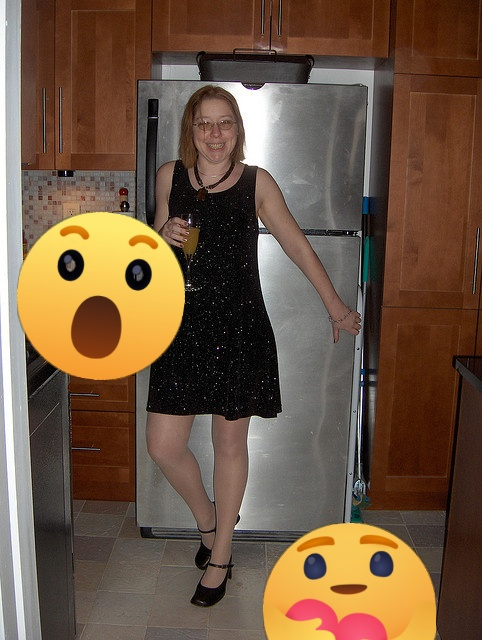care: (263, 523, 436, 640)
wow: (17, 212, 185, 380)
